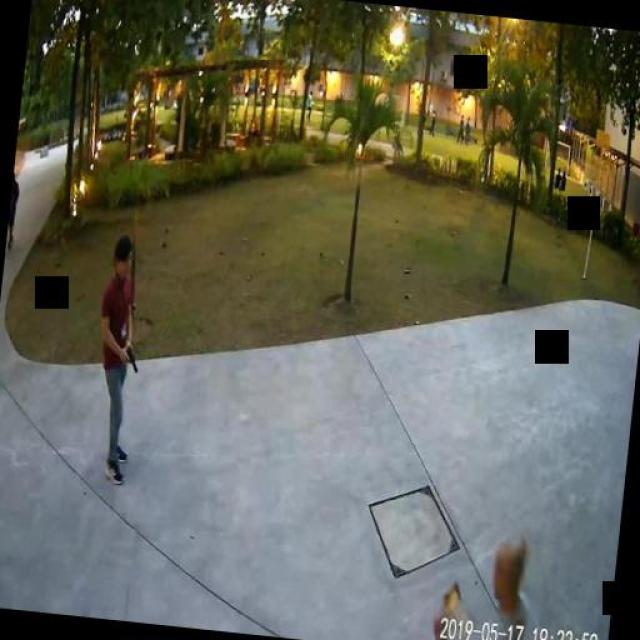gun: (121, 342, 138, 372)
